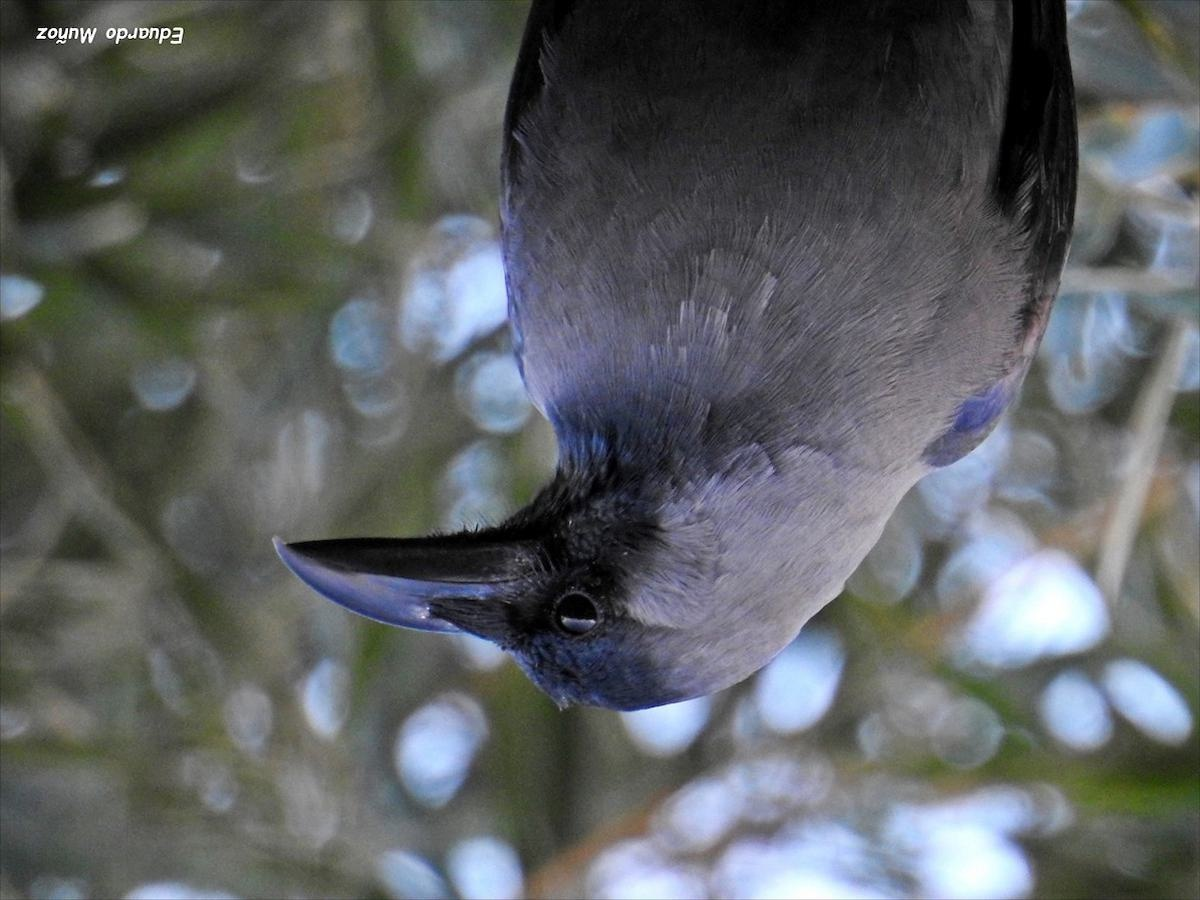crow: (261, 1, 1113, 721)
